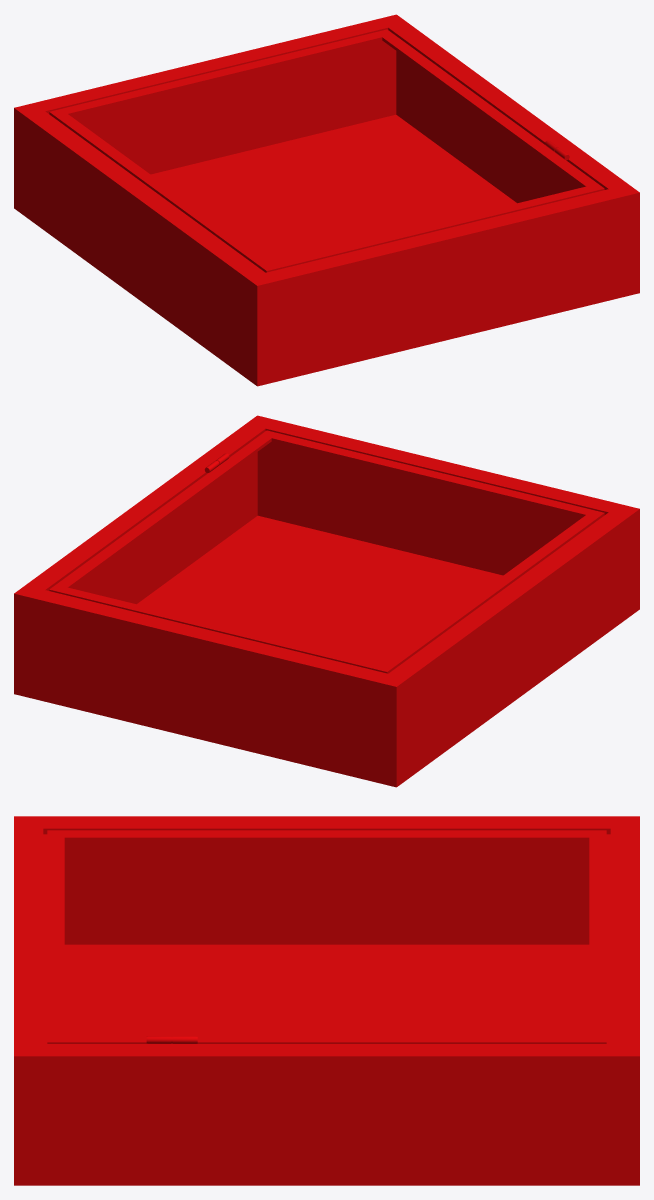
The model's file is P_MangueraCaja.fbx.
3 renders of one model, top to bottom at view 1: azimuth 30°, elevation 25°; view 2: azimuth 150°, elevation 25°; view 3: azimuth 270°, elevation 25°, orthographic. The views are drawn at different scales.
Visible parts, largest first — view 1: Contenedor; view 2: Contenedor; view 3: Contenedor.
Part boxes in pixels (left/top/right/bottom): Contenedor: left=14, top=14, right=639, bottom=386; Contenedor: left=14, top=415, right=639, bottom=787; Contenedor: left=14, top=816, right=639, bottom=1185.
Size of the model in its own units: 212 by 56.03 by 234.
